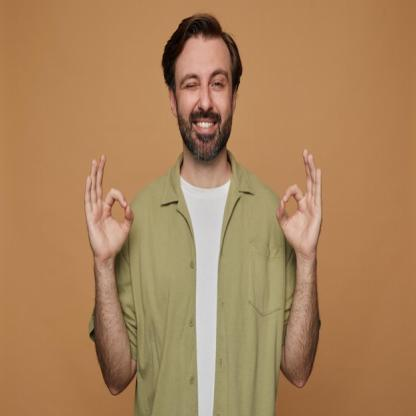ok: (85, 148, 139, 268), (274, 144, 328, 260)
